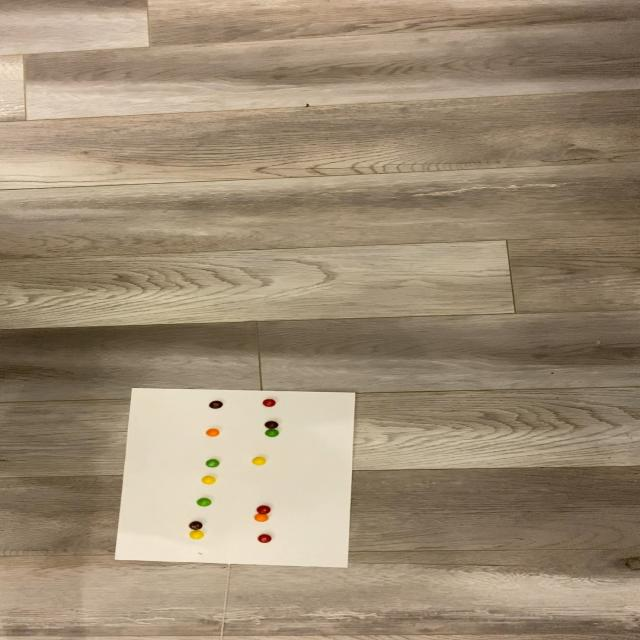smartie: (201, 476, 217, 486), (263, 420, 278, 430), (198, 498, 213, 508), (190, 521, 205, 531), (191, 530, 206, 540), (205, 428, 220, 437), (264, 429, 279, 438), (261, 400, 276, 409), (205, 459, 220, 468), (251, 457, 266, 466), (254, 513, 269, 522), (256, 535, 271, 544), (209, 401, 223, 410), (257, 506, 271, 514)
